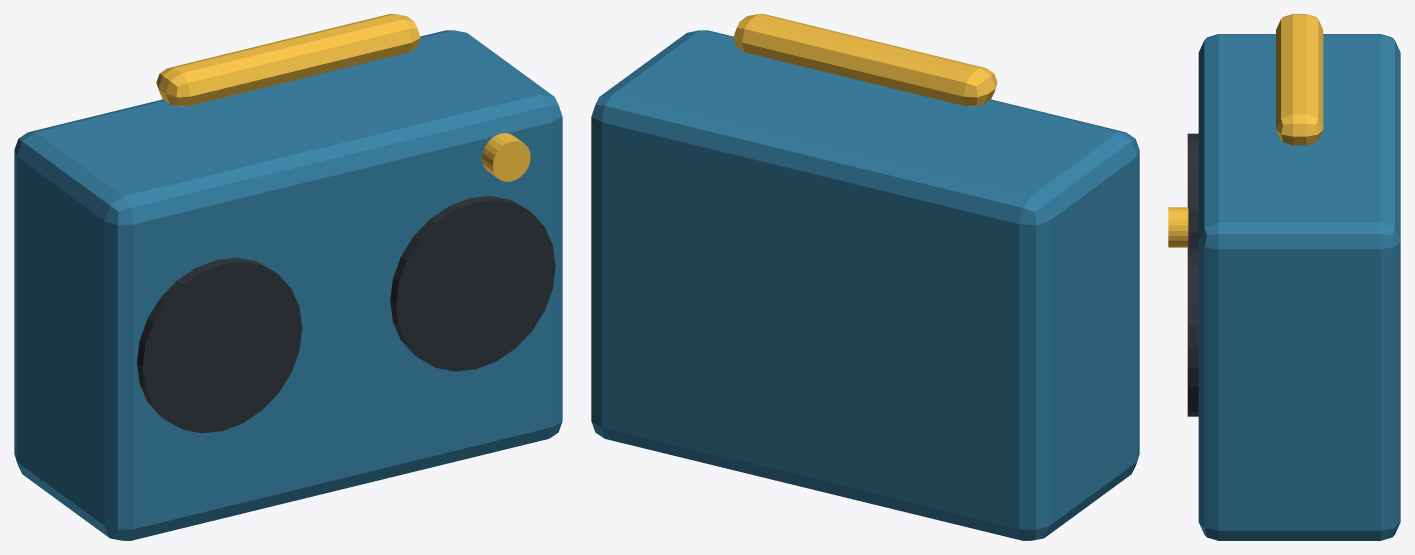
The model's file is Radio.fbx.
3 views of the same model, side by side, from view 1: azimuth 30°, elevation 25°; view 2: azimuth 150°, elevation 25°; view 3: azimuth 270°, elevation 25° (orthographic). The views are drawn at different scales.
Parts seen in each view (by area): view 1: Radio, Speaker.001, Speaker, Handle, TuningKnob; view 2: Radio, Handle; view 3: Radio, Handle, Speaker.001, Speaker, TuningKnob.
Boxes of the visible parts, x1,y1,x2,y2 form: Radio: (14,30,562,540); Speaker.001: (390,196,555,371); Speaker: (137,257,302,433); Handle: (156,14,420,106); TuningKnob: (482,133,530,181); Radio: (591,30,1139,540); Handle: (733,14,997,106); Radio: (1198,34,1400,540); Handle: (1276,14,1323,145); Speaker.001: (1187,247,1198,416); Speaker: (1187,133,1198,247); TuningKnob: (1168,207,1188,247).
Bounding box in the file's own units: 36 × 31.25 × 17.25.
